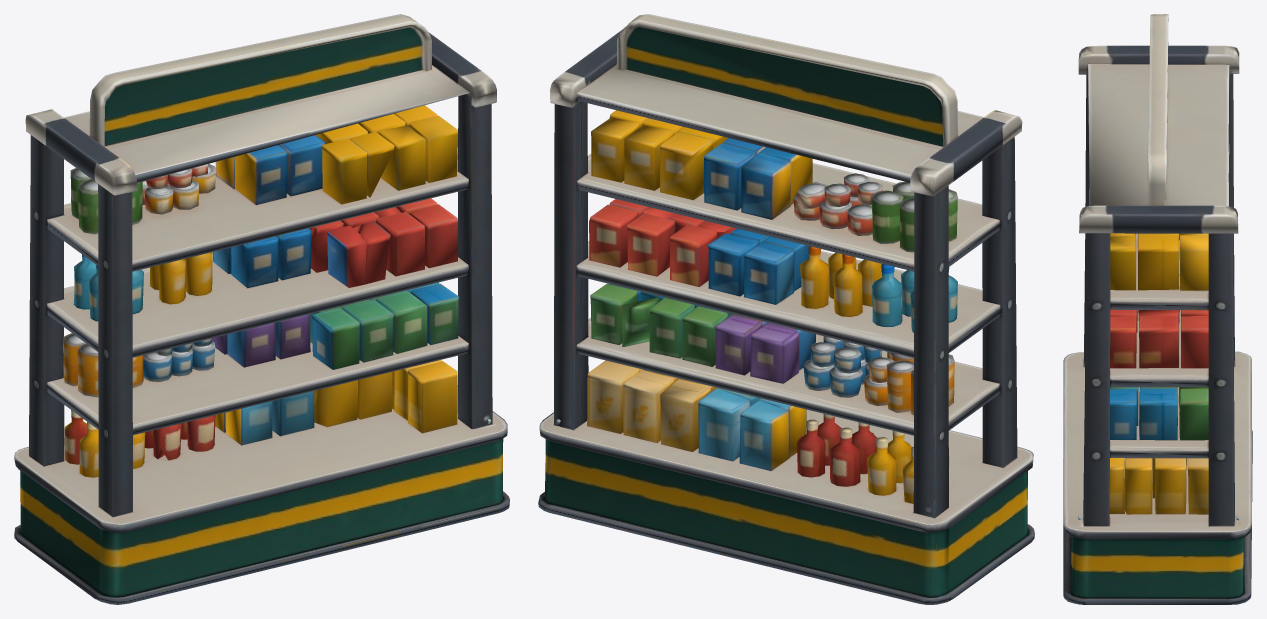
Rendered from retail-shelf.glb.
The picture shows the model from 3 angles, left to right: view 1: azimuth 30°, elevation 25°; view 2: azimuth 150°, elevation 25°; view 3: azimuth 270°, elevation 25°; orthographic projection. The views are drawn at different scales.
Parts seen in each view (by area): view 1: meshy-retail-shelf; view 2: meshy-retail-shelf; view 3: meshy-retail-shelf.
Part boxes in pixels (x1,y1,x2,y2): meshy-retail-shelf: (14, 14, 509, 604); meshy-retail-shelf: (538, 14, 1034, 604); meshy-retail-shelf: (1063, 14, 1252, 604).
Size of the model in its own units: 1.58 by 1.75 by 0.6929.
1 material, 1 textured.
